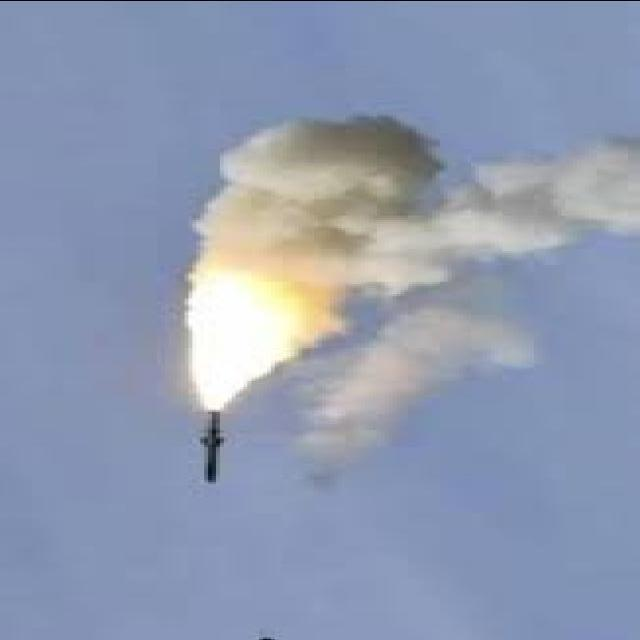missile: (194, 412, 222, 484)
